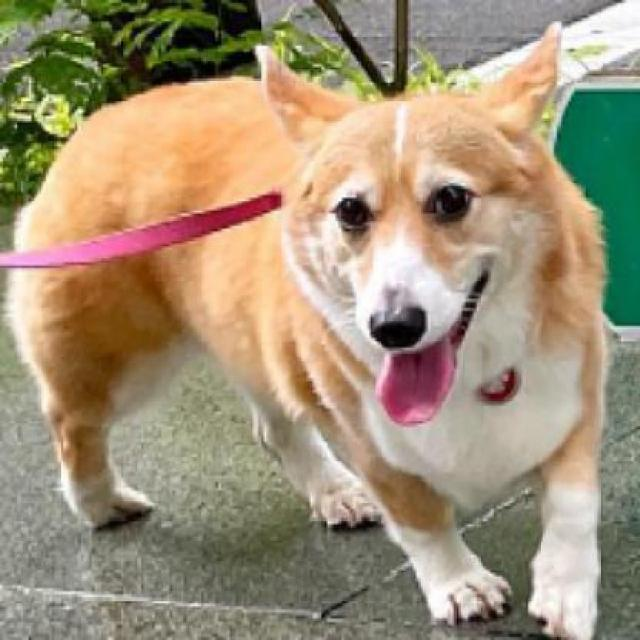Dog: (0, 19, 615, 638)
